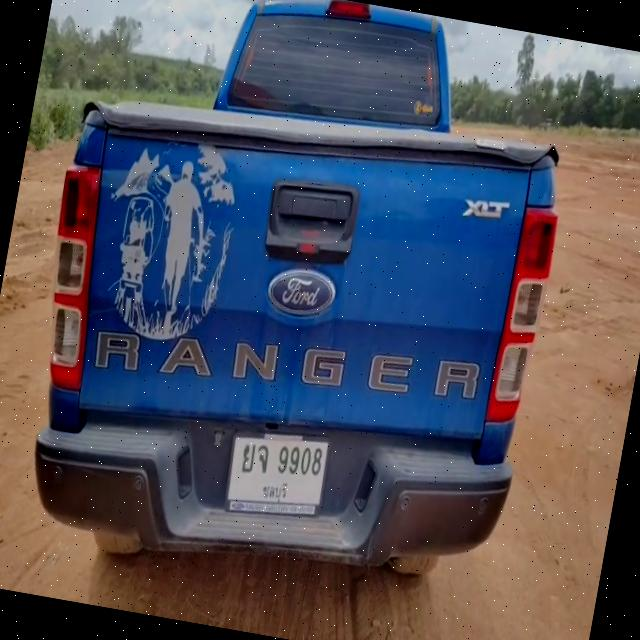Digit: (274, 440, 324, 482)
Licenseplate: (222, 425, 334, 526)
Provincename: (260, 476, 290, 506)
Thaichar: (239, 440, 272, 478)
